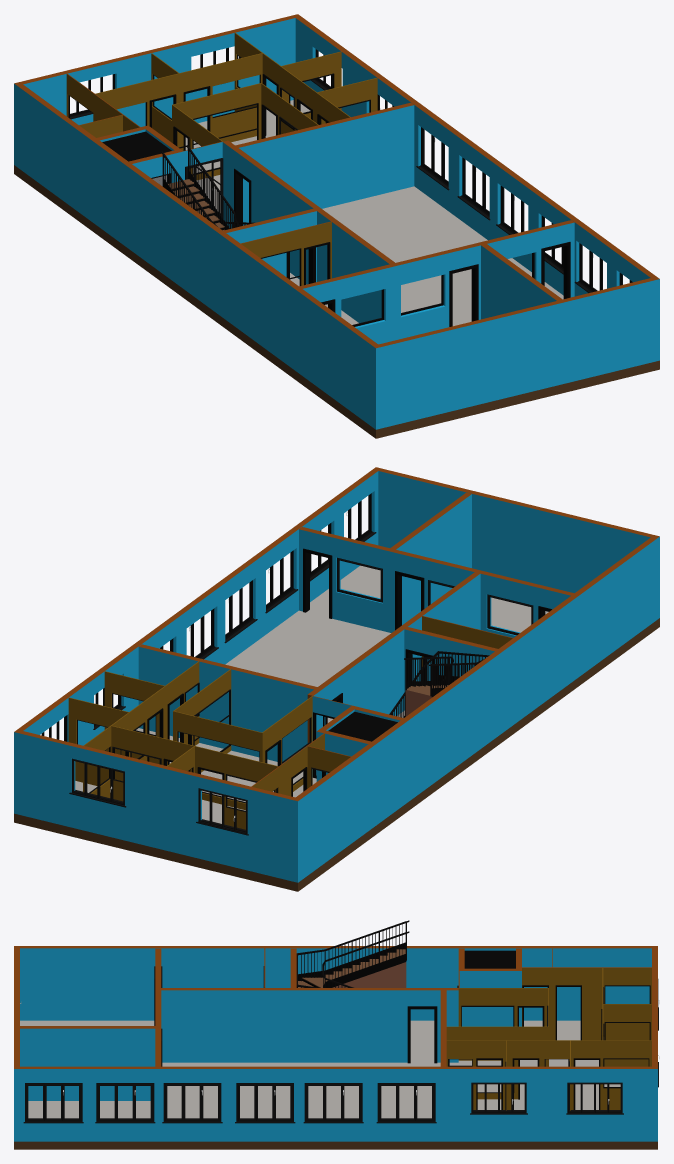
File: Floor3.gltf
The picture shows the model from 3 angles, top to bottom: view 1: azimuth 30°, elevation 25°; view 2: azimuth 150°, elevation 25°; view 3: azimuth 270°, elevation 25°; orthographic projection. The views are drawn at different scales.
Parts seen in each view (by area): view 1: Wall, Slab, Wall.007, Wall.004, Wall.009, Wall.006, Wall.003, Wall.002, Wall.008, Stair, Wall.001, Wall.018 (+12 smaller); view 2: Wall, Slab, Wall.004, Wall.007, Wall.009, Wall.006, Wall.002, Wall.008, Stair, Wall.003, Wall.001, Wall.016 (+9 smaller); view 3: Wall, Slab, Wall.003, Wall.006, Wall.002, Wall.012, Stair, Wall.009, Wall.010, Wall.005, Wall.008, Wall.013 (+13 smaller).
Boxes of the visible parts, <box> form: Wall: <box>14,14,659,429</box>; Slab: <box>14,100,659,438</box>; Wall.007: <box>235,102,414,225</box>; Wall.004: <box>299,220,574,344</box>; Wall.009: <box>95,53,350,150</box>; Wall.006: <box>222,140,317,284</box>; Wall.003: <box>312,206,396,323</box>; Wall.002: <box>481,244,562,319</box>; Wall.008: <box>173,83,318,180</box>; Stair: <box>161,145,254,230</box>; Wall.001: <box>223,208,316,282</box>; Wall.018: <box>240,221,331,285</box>; Wall: <box>14,467,659,882</box>; Slab: <box>14,565,659,891</box>; Wall.004: <box>299,527,573,637</box>; Wall.007: <box>138,644,317,762</box>; Wall.009: <box>111,661,278,829</box>; Wall.006: <box>307,628,404,774</box>; Wall.002: <box>390,492,471,624</box>; Wall.008: <box>173,669,261,810</box>; Stair: <box>389,651,489,717</box>; Wall.003: <box>399,571,481,711</box>; Wall.001: <box>402,626,497,710</box>; Wall.016: <box>68,697,128,785</box>; Wall: <box>14,946,657,1141</box>; Slab: <box>14,1020,657,1149</box>; Wall.003: <box>157,988,298,1062</box>; Wall.006: <box>296,988,458,1062</box>; Wall.002: <box>20,1026,155,1100</box>; Wall.012: <box>522,967,651,1040</box>; Stair: <box>296,920,409,987</box>; Wall.009: <box>446,968,603,1109</box>; Wall.010: <box>458,948,521,1026</box>; Wall.005: <box>458,988,548,1060</box>; Wall.008: <box>446,988,548,1099</box>; Wall.013: <box>603,1040,651,1109</box>.
Bounding box in the file's own units: 9.89 × 4.07 × 21.81.
